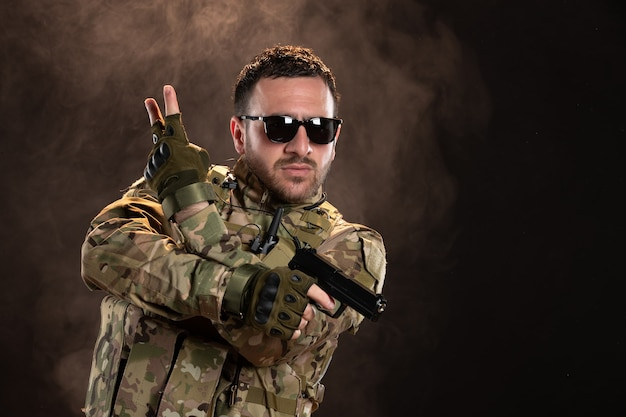gun: (288, 244, 389, 322)
